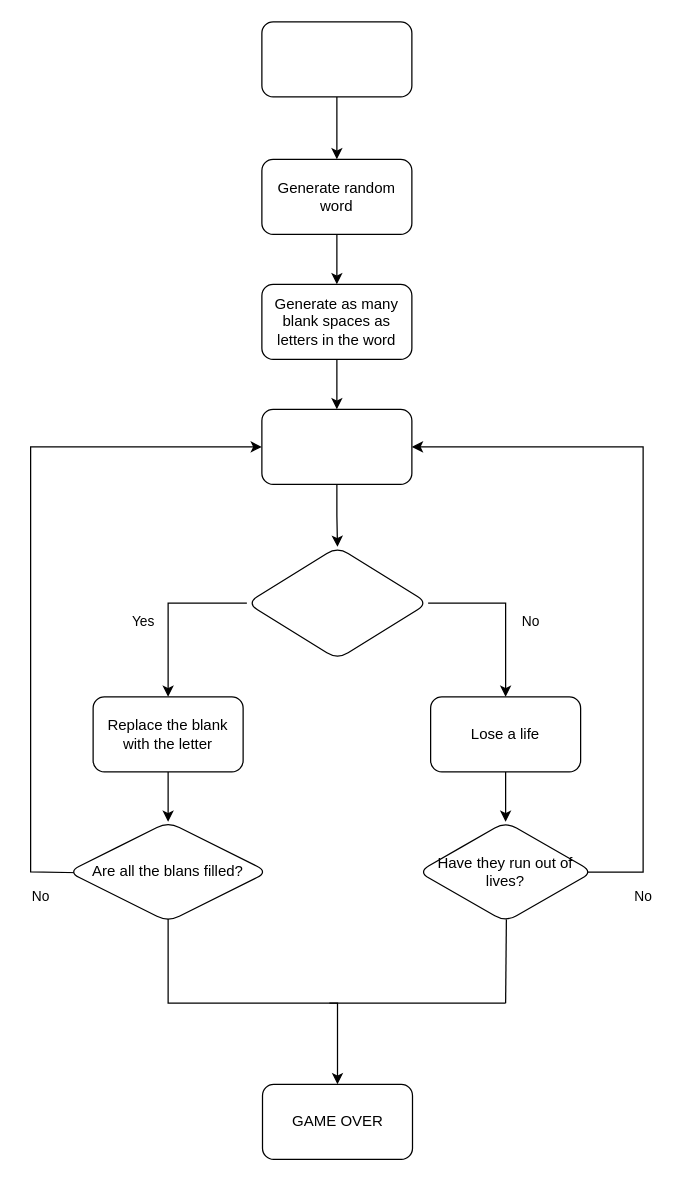
Image size: 675x1181. Some labels were removed from this diagram. Here are the shapes that lost their labels. From the top down, the box of each, then its label:
(261, 21, 412, 97): START
(261, 408, 412, 484): Ask the user to guess a letter
(246, 546, 428, 659): Is the guessed letter in the word?
